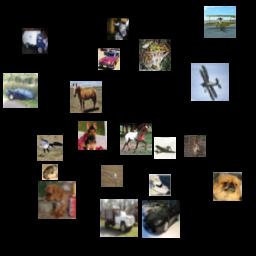airplane: (191, 63, 229, 101), (204, 6, 236, 38), (154, 137, 176, 159)
automobile: (142, 200, 180, 238), (3, 73, 38, 108), (98, 48, 120, 70)
bird: (37, 135, 63, 161), (101, 165, 123, 187)
cat: (42, 164, 58, 180)
deer: (184, 135, 206, 157)
dog: (38, 181, 76, 219), (213, 172, 242, 201), (78, 121, 107, 150), (107, 18, 129, 40)
frog: (139, 39, 171, 71)
ship: (149, 174, 171, 196)
truck: (100, 199, 138, 237), (22, 28, 48, 54)
